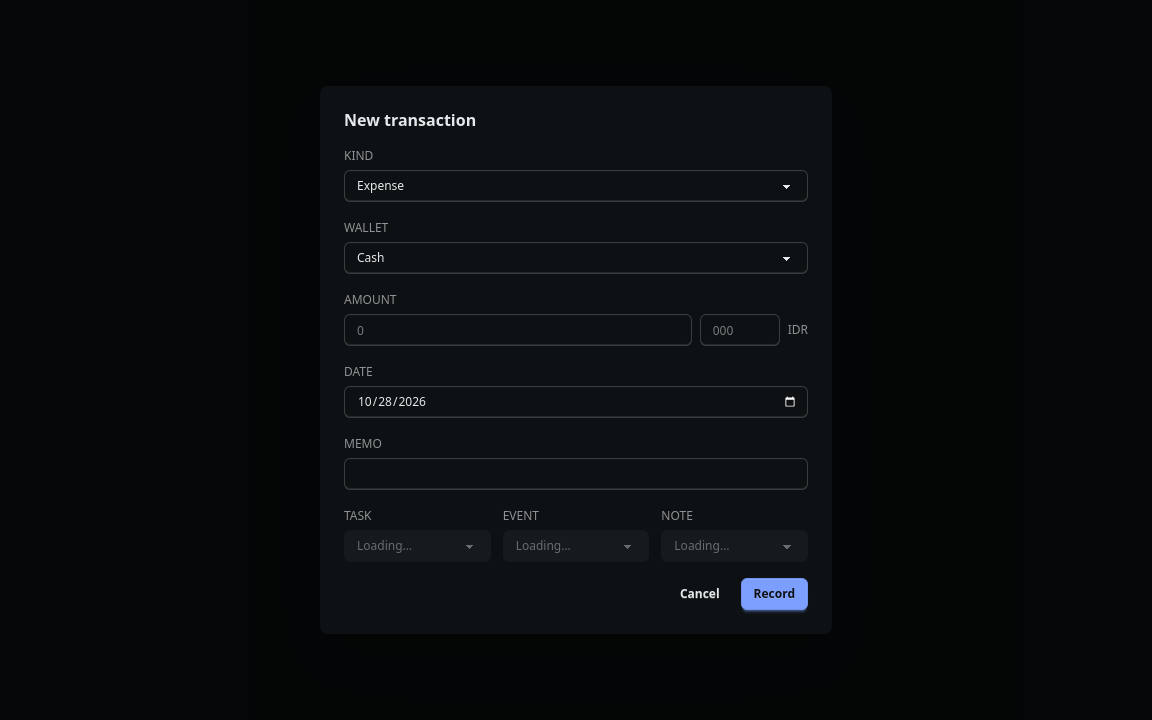
it: TransactionForm › shows server validation errors inline
Type "10" into the field labelled "Amount" at (518, 330), box x1=344 y1=314 x2=692 y2=346
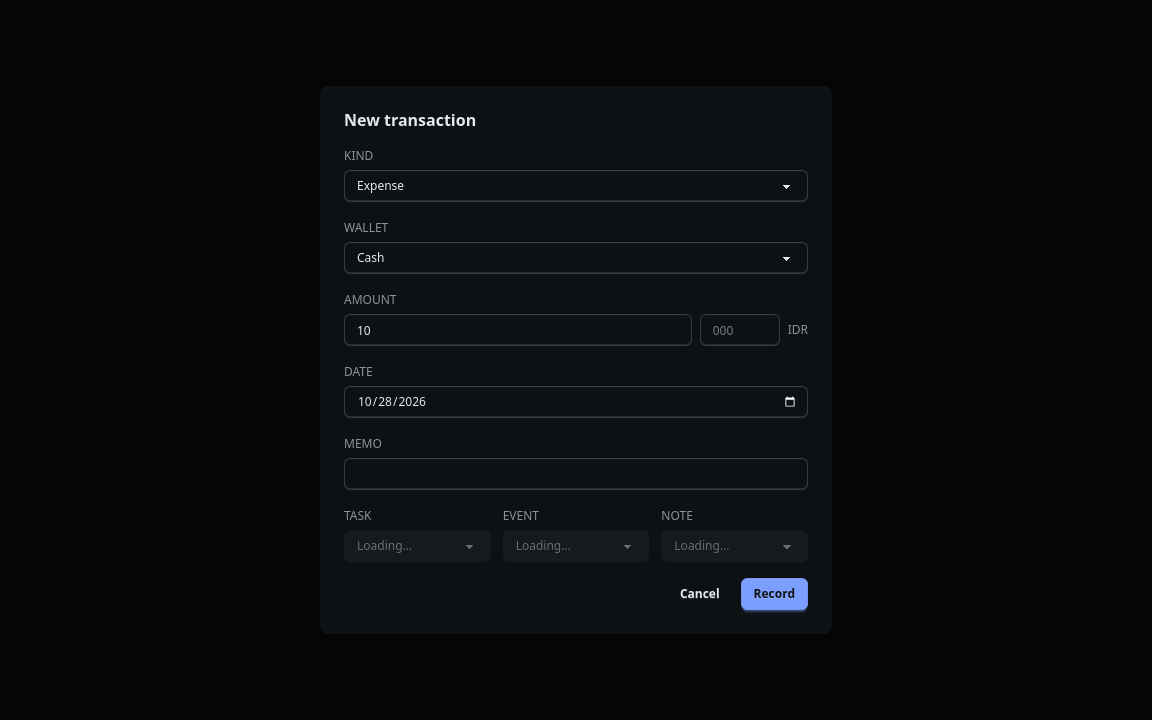
Type "2026-10-21" into the date field labelled "Date" at (576, 402), box x1=344 y1=386 x2=808 y2=418
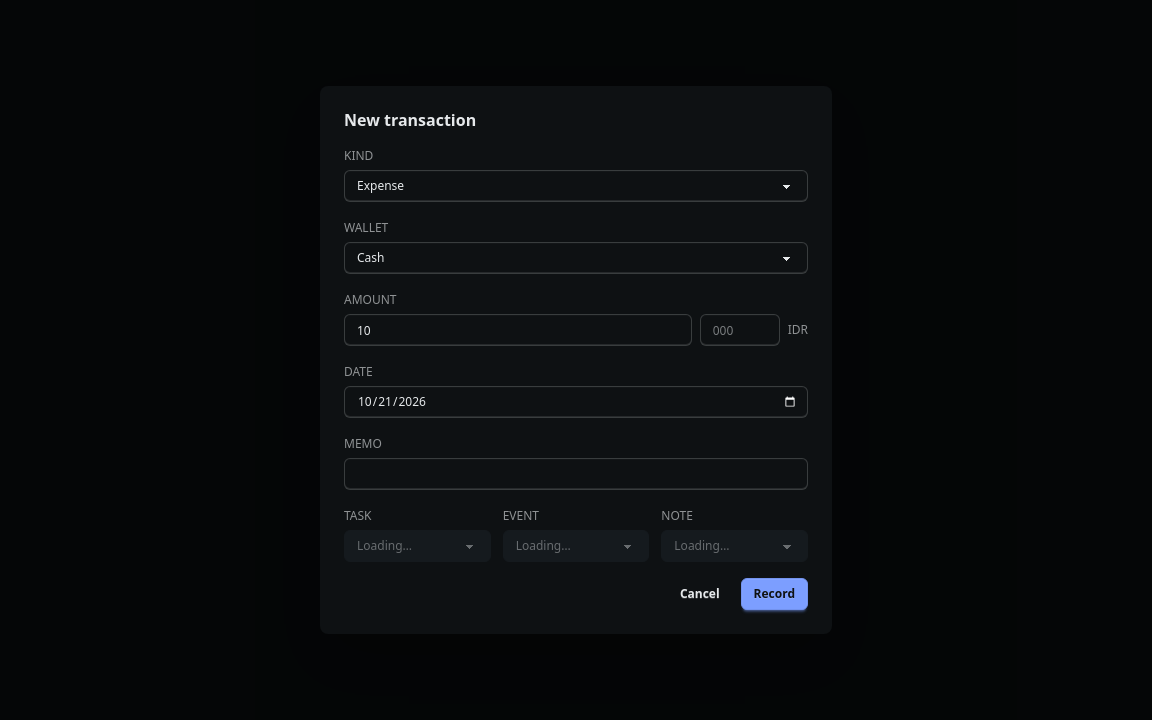
Click the button "Record" at (774, 594), box x1=741 y1=578 x2=808 y2=610
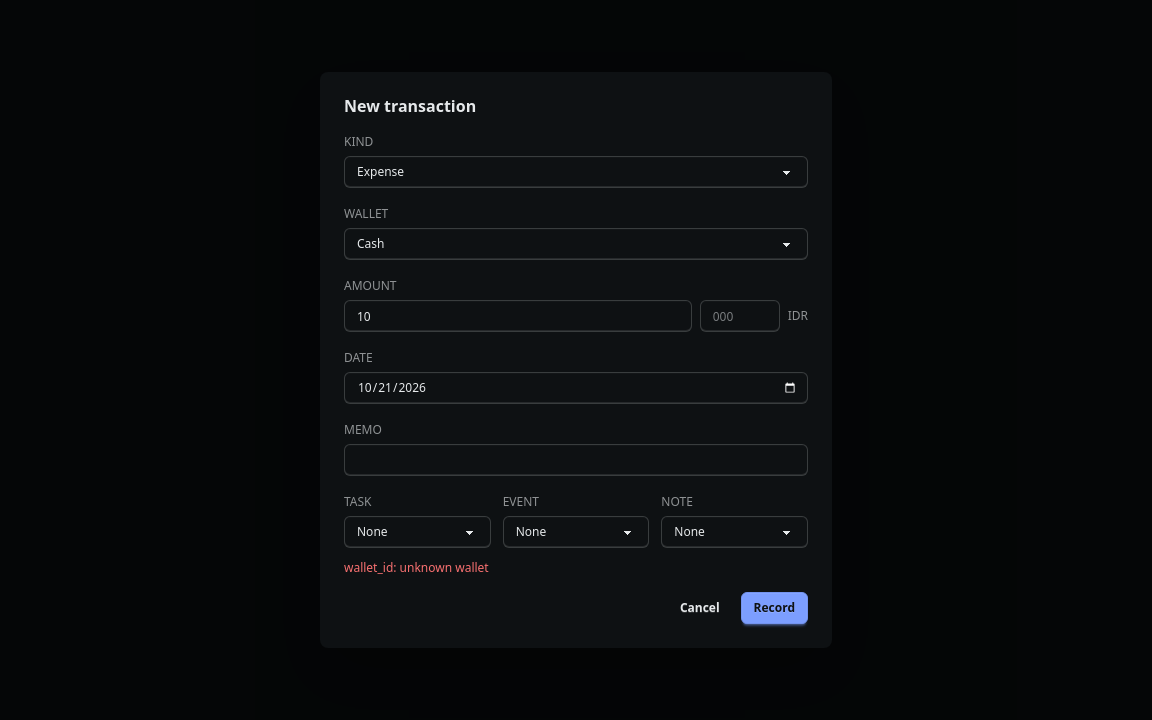
Result: the list item "wallet_id: unknown wallet" is shown at x1=344 y1=559 x2=489 y2=576
